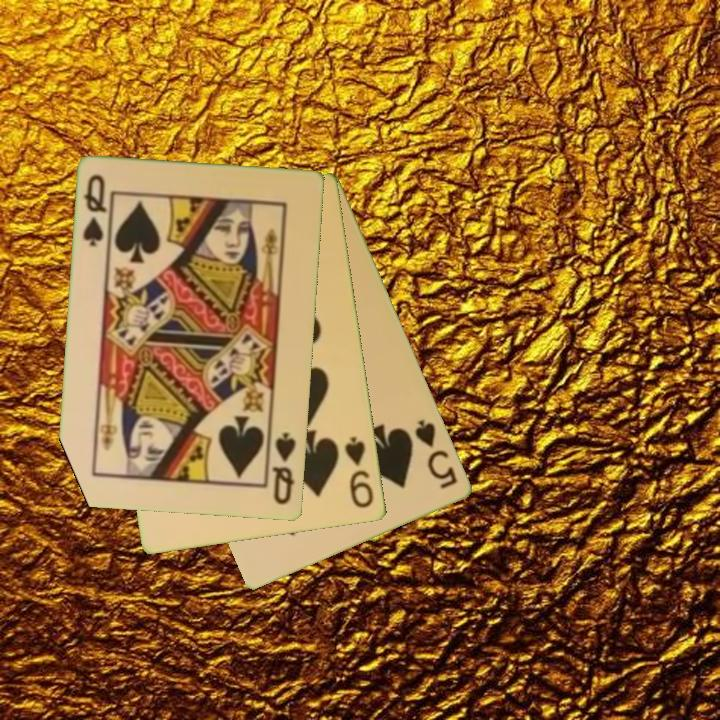5s: (412, 416, 461, 492)
9s: (341, 434, 377, 512)
Qs: (80, 171, 114, 250), (269, 429, 299, 508)
